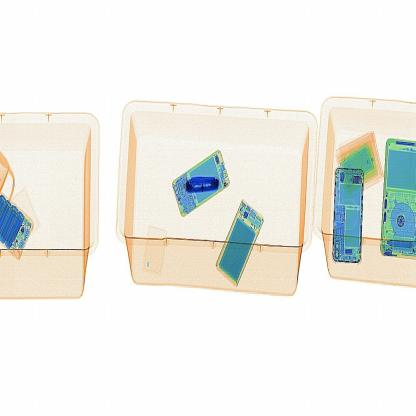scissors: (178, 170, 224, 199)
